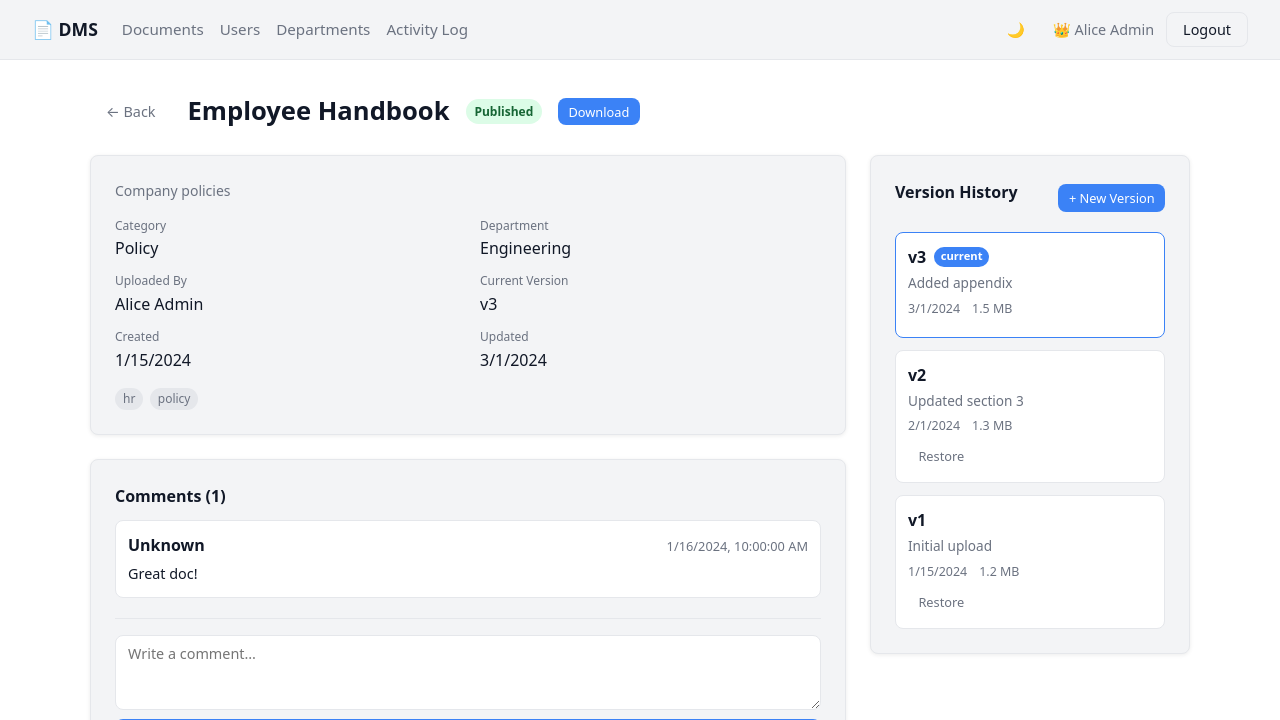
it: Document Detail Page › can post a new comment
In the text box with placeholder "Write a comment…": (468, 673) [115,635,821,710], type "Test comment"
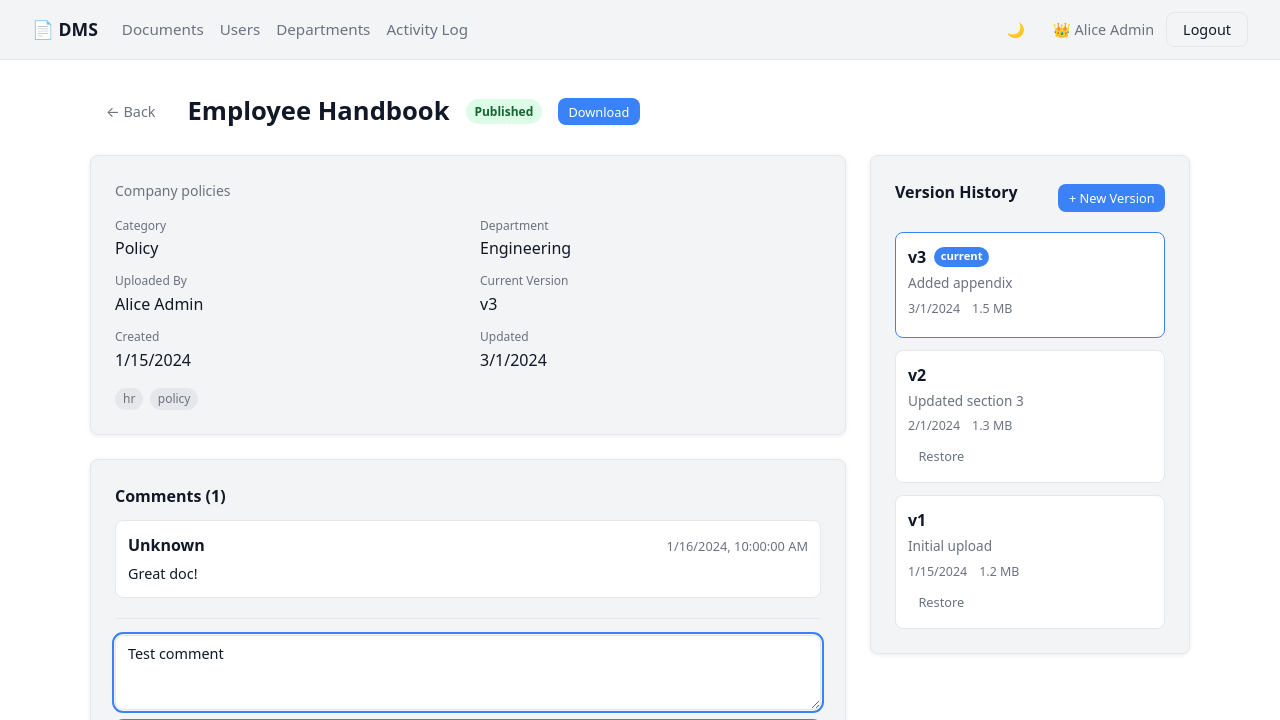
Scroll
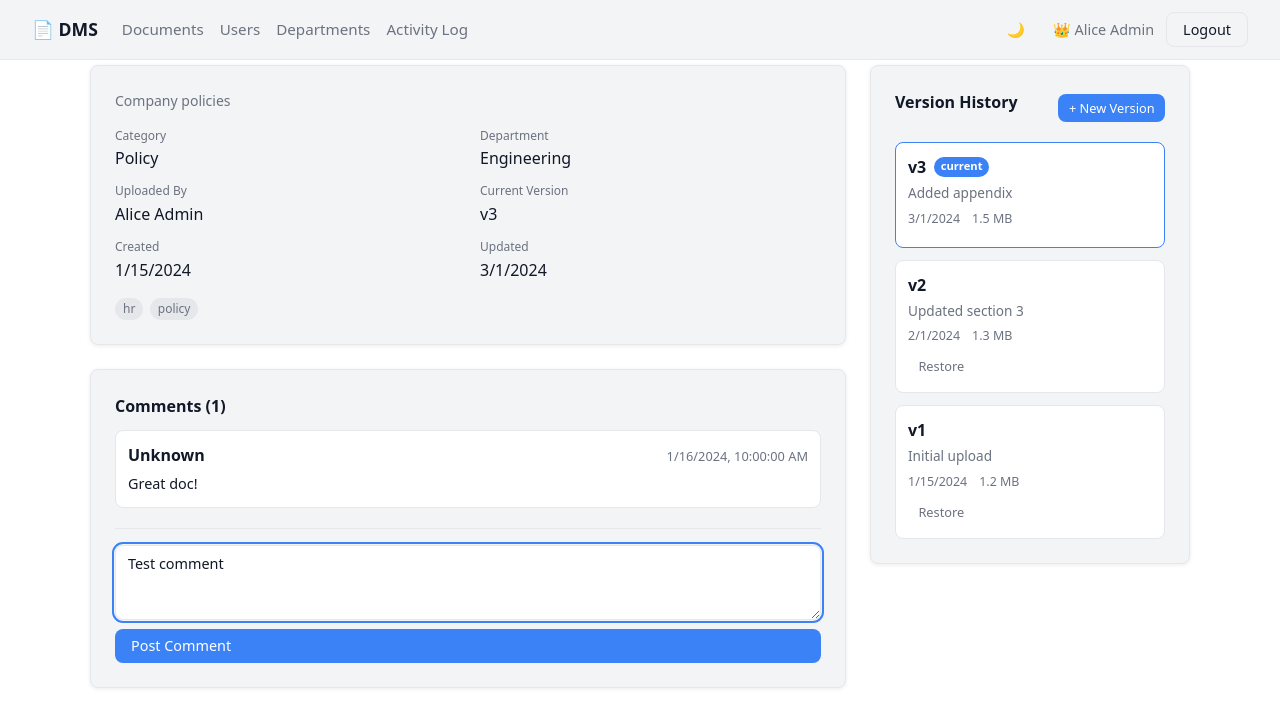
Click the button "Post Comment": (181, 646) [115,629,821,662]
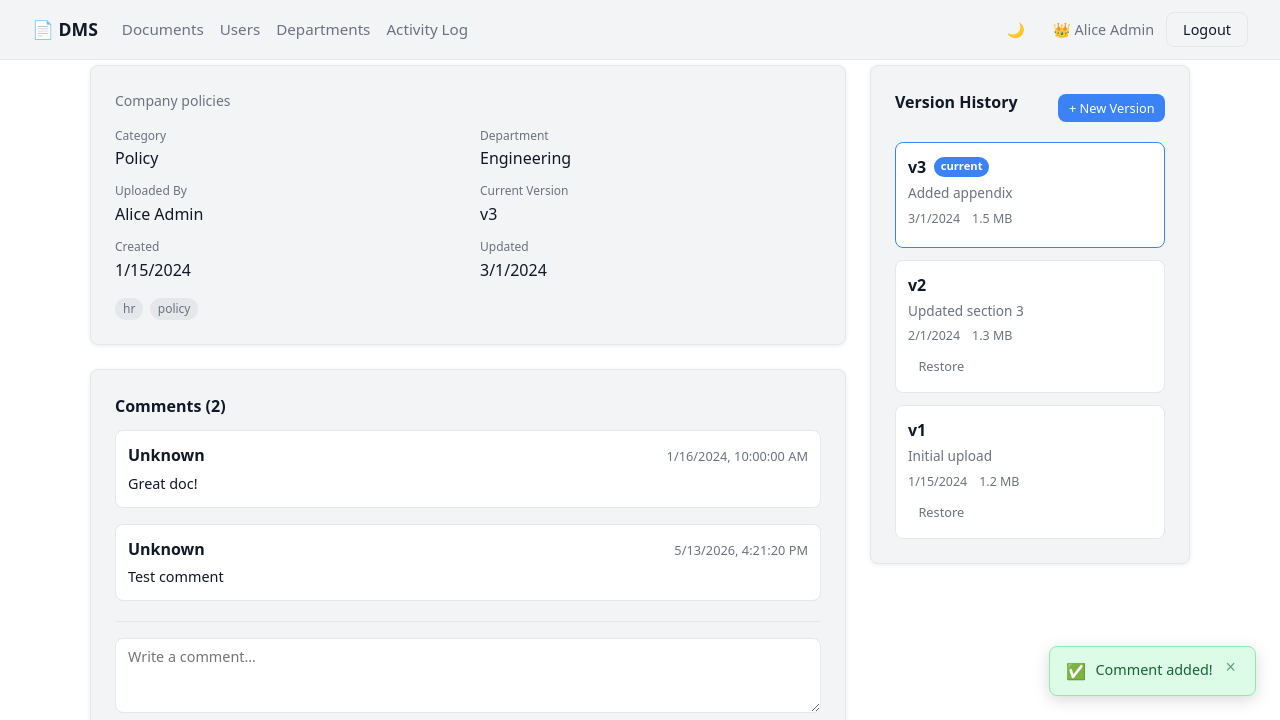
Check: the text "Comment added!" is shown, box [1096,659,1213,681]
